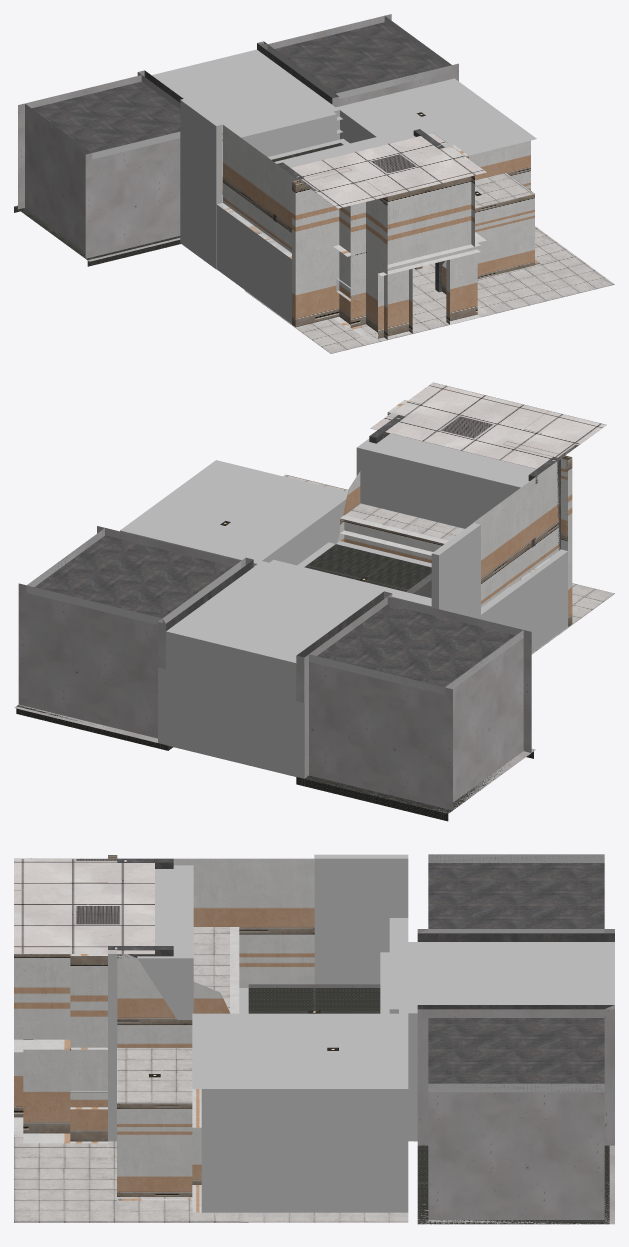
File: RZ_ckpt1.gltf
3 views of the same model, one above another, from view 1: azimuth 30°, elevation 25°; view 2: azimuth 150°, elevation 25°; view 3: azimuth 270°, elevation 25° (orthographic). The views are drawn at different scales.
Visible parts, largest first — view 1: RZ_ckpt1; view 2: RZ_ckpt1; view 3: RZ_ckpt1.
Boxes of the visible parts, x1,y1,x2,y2 form: RZ_ckpt1: (14, 14, 614, 353); RZ_ckpt1: (14, 382, 614, 821); RZ_ckpt1: (14, 854, 614, 1224).
Bounding box in the file's own units: 19.2 × 7.36 × 20.48.
